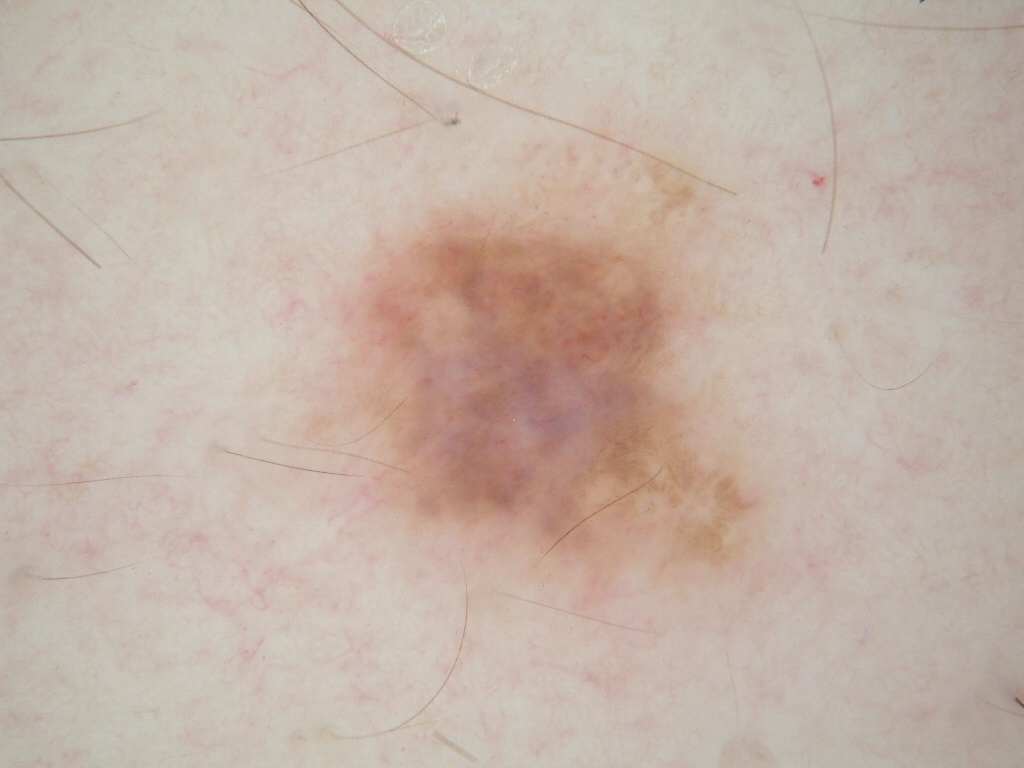Detected Lesion: (335, 163, 754, 593)
